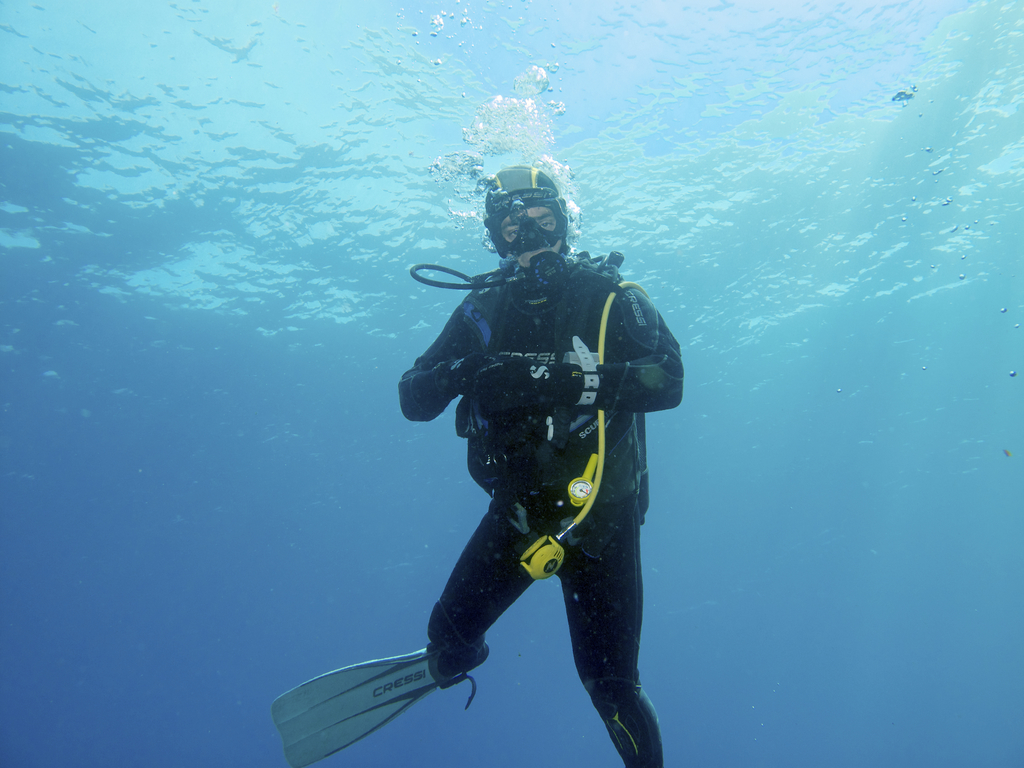Person: (268, 164, 686, 767)
